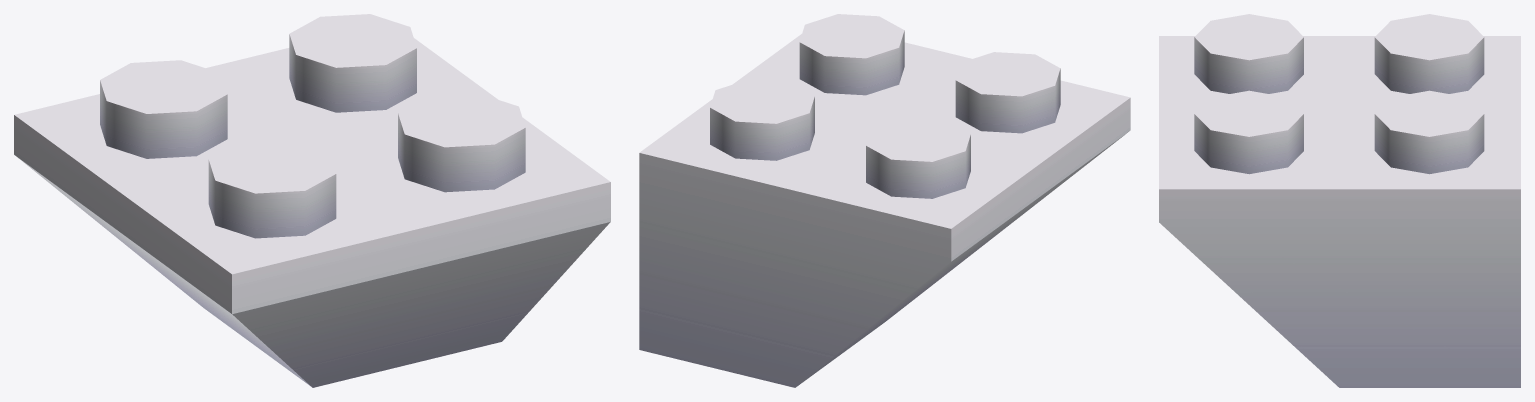
File: round-lq-brick-slope-corner-outside-inverted-2x2.glb
3 views of the same model, side by side, from view 1: azimuth 30°, elevation 25°; view 2: azimuth 150°, elevation 25°; view 3: azimuth 270°, elevation 25° (orthographic). The views are drawn at different scales.
Parts seen in each view (by area): view 1: round-lq-brick-slope-corner-outside-inverted-2x2; view 2: round-lq-brick-slope-corner-outside-inverted-2x2; view 3: round-lq-brick-slope-corner-outside-inverted-2x2.
Boxes of the visible parts, <box> form: round-lq-brick-slope-corner-outside-inverted-2x2: <box>14,14,610,387</box>; round-lq-brick-slope-corner-outside-inverted-2x2: <box>639,14,1130,387</box>; round-lq-brick-slope-corner-outside-inverted-2x2: <box>1159,14,1520,387</box>.
Size of the model in its own units: 0.159 by 0.114 by 0.1585.
1 material, 1 textured.
